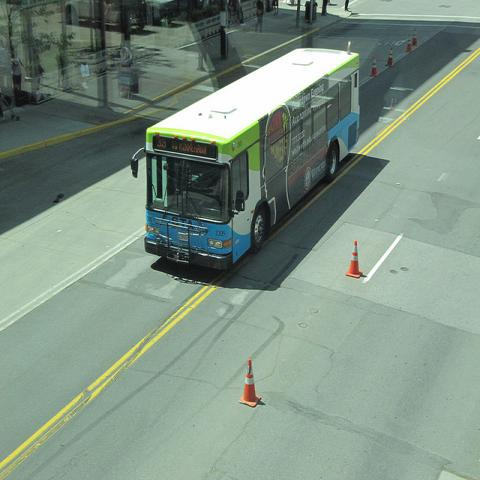bus: (129, 47, 360, 276)
